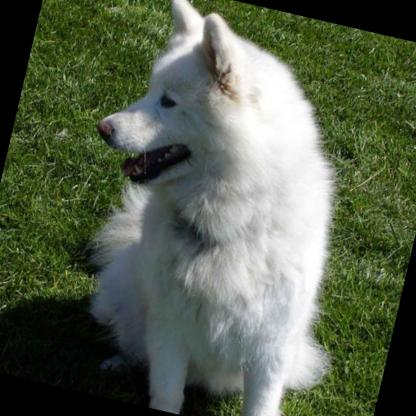Samoyed: (37, 0, 405, 416)
